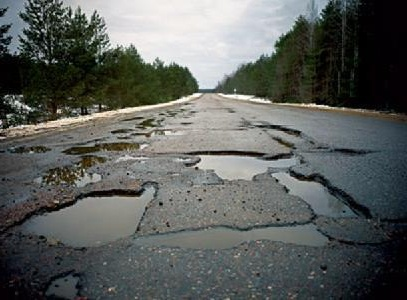pothole: (0, 178, 160, 252), (135, 218, 333, 254), (267, 167, 374, 218), (183, 150, 302, 183), (34, 152, 107, 187), (255, 120, 314, 151), (61, 138, 151, 154), (41, 266, 82, 299), (329, 144, 370, 157), (6, 142, 52, 153)
